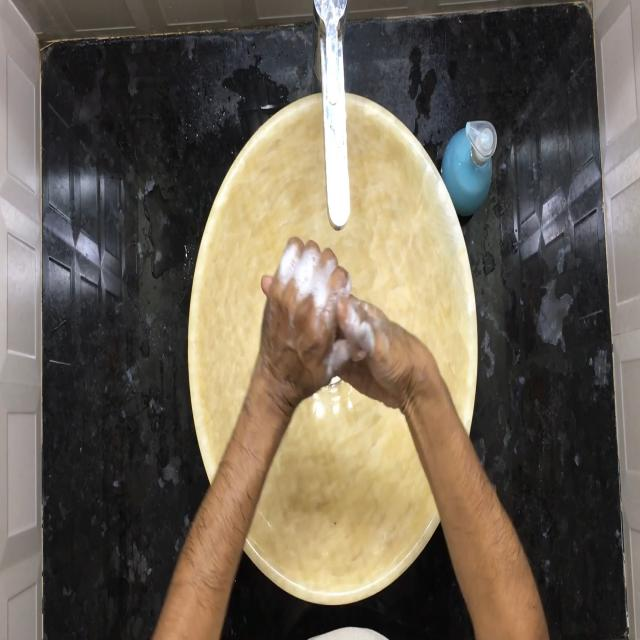step_5: (254, 229, 397, 405)
